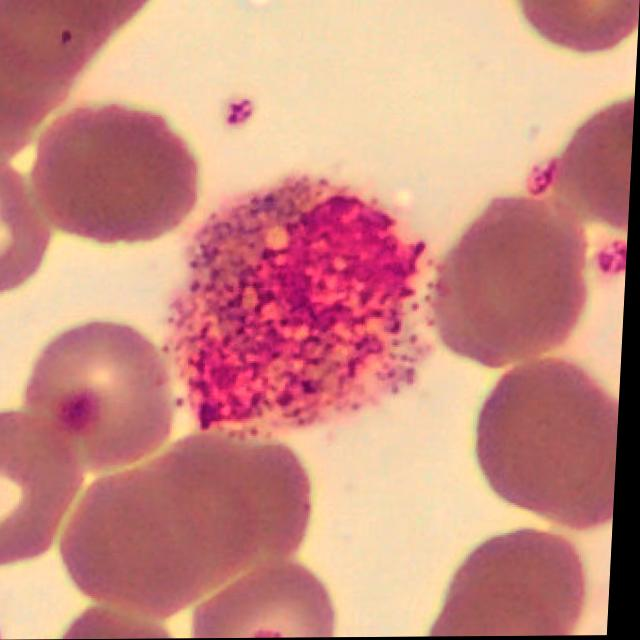Restos celulares: (164, 176, 439, 440)
